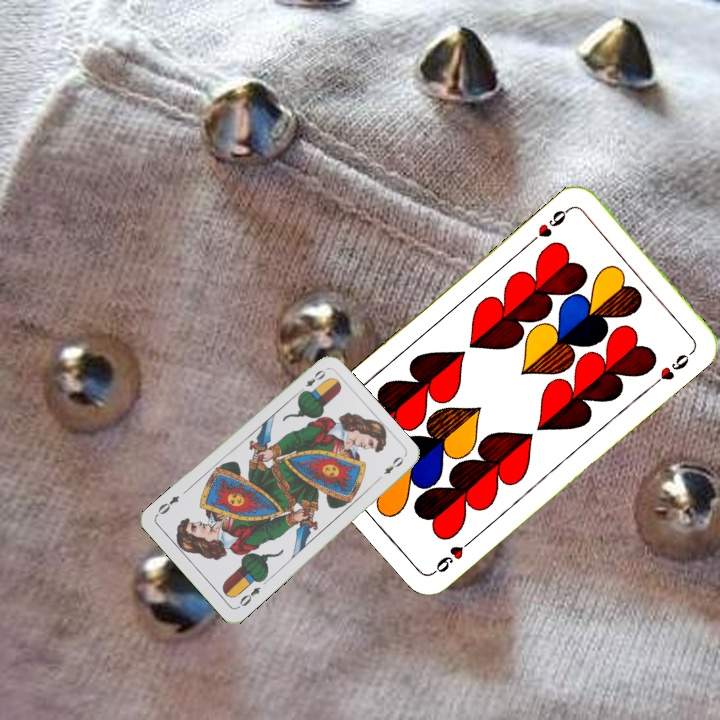EO: (295, 366, 328, 396), (233, 583, 263, 611)
H9: (525, 203, 574, 247), (427, 535, 476, 578)
